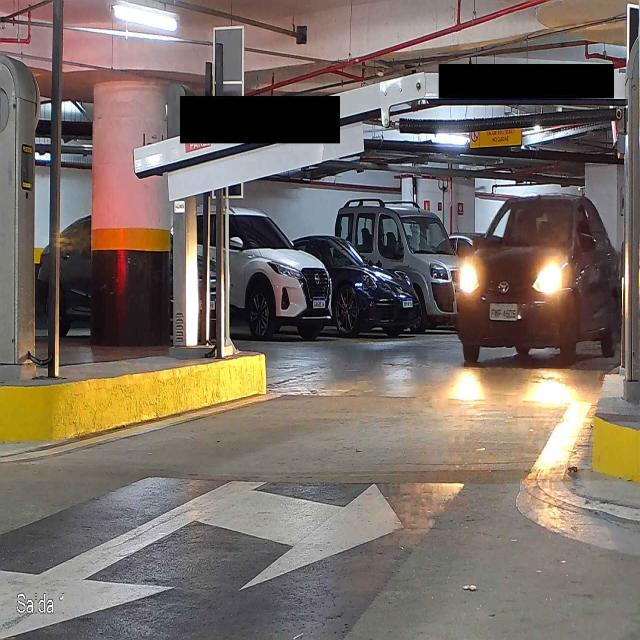old_plate: (487, 302, 520, 322)
